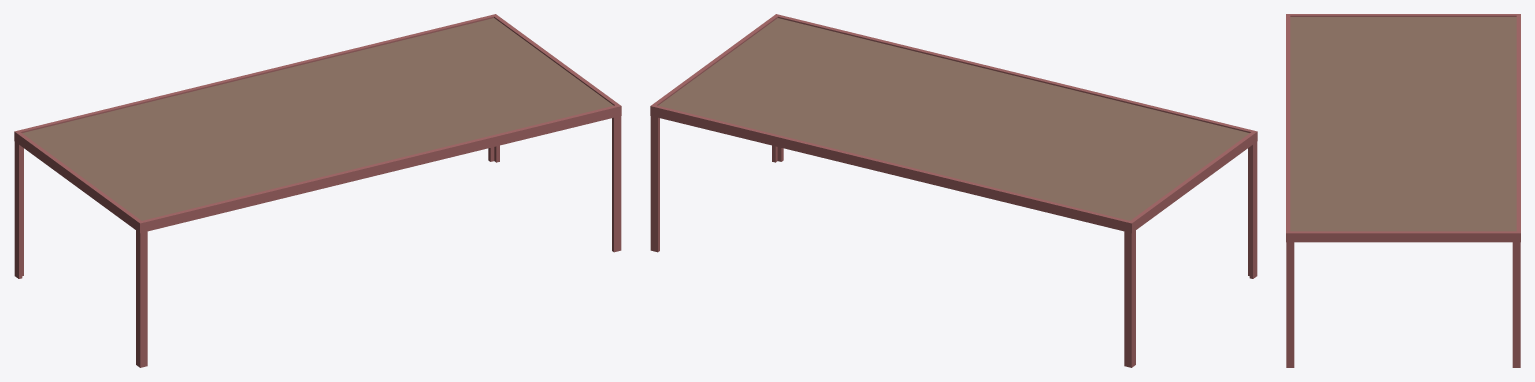
The model's file is meja2.fbx.
The picture shows the model from 3 angles, left to right: view 1: azimuth 30°, elevation 25°; view 2: azimuth 150°, elevation 25°; view 3: azimuth 270°, elevation 25°; orthographic projection. The views are drawn at different scales.
Parts seen in each view (by area): view 1: Model; view 2: Model; view 3: Model.
Part boxes in pixels (bbox=[...]): Model: bbox=[14, 14, 621, 367]; Model: bbox=[650, 14, 1257, 367]; Model: bbox=[1286, 14, 1520, 367].
Bounding box in the file's own units: 186 × 53.3 × 84.05.
